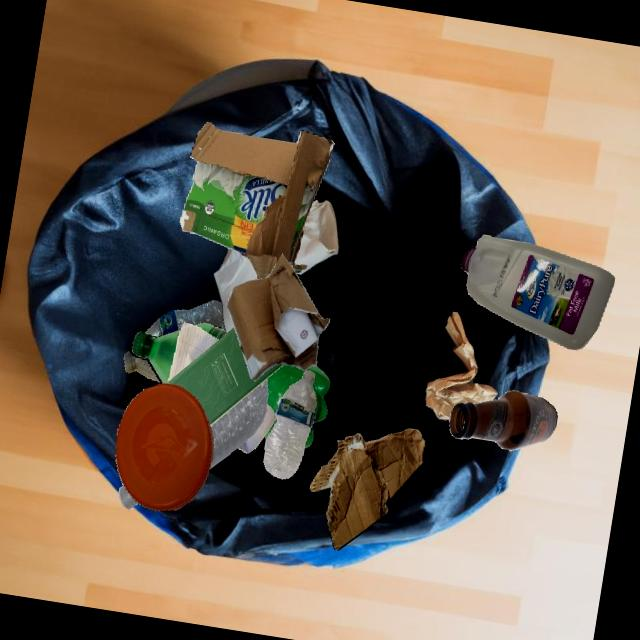cardboard: (180, 122, 334, 279), (309, 428, 425, 551), (227, 254, 330, 382)
glass: (449, 390, 557, 451)
paper: (166, 327, 284, 426), (425, 311, 498, 421), (213, 248, 257, 333), (294, 200, 339, 275), (168, 322, 218, 382), (237, 404, 276, 454)
plastic: (461, 235, 615, 350), (116, 383, 213, 511), (263, 370, 317, 479), (209, 379, 268, 469), (179, 326, 276, 375), (144, 300, 225, 337), (130, 330, 181, 384), (124, 352, 160, 382)
